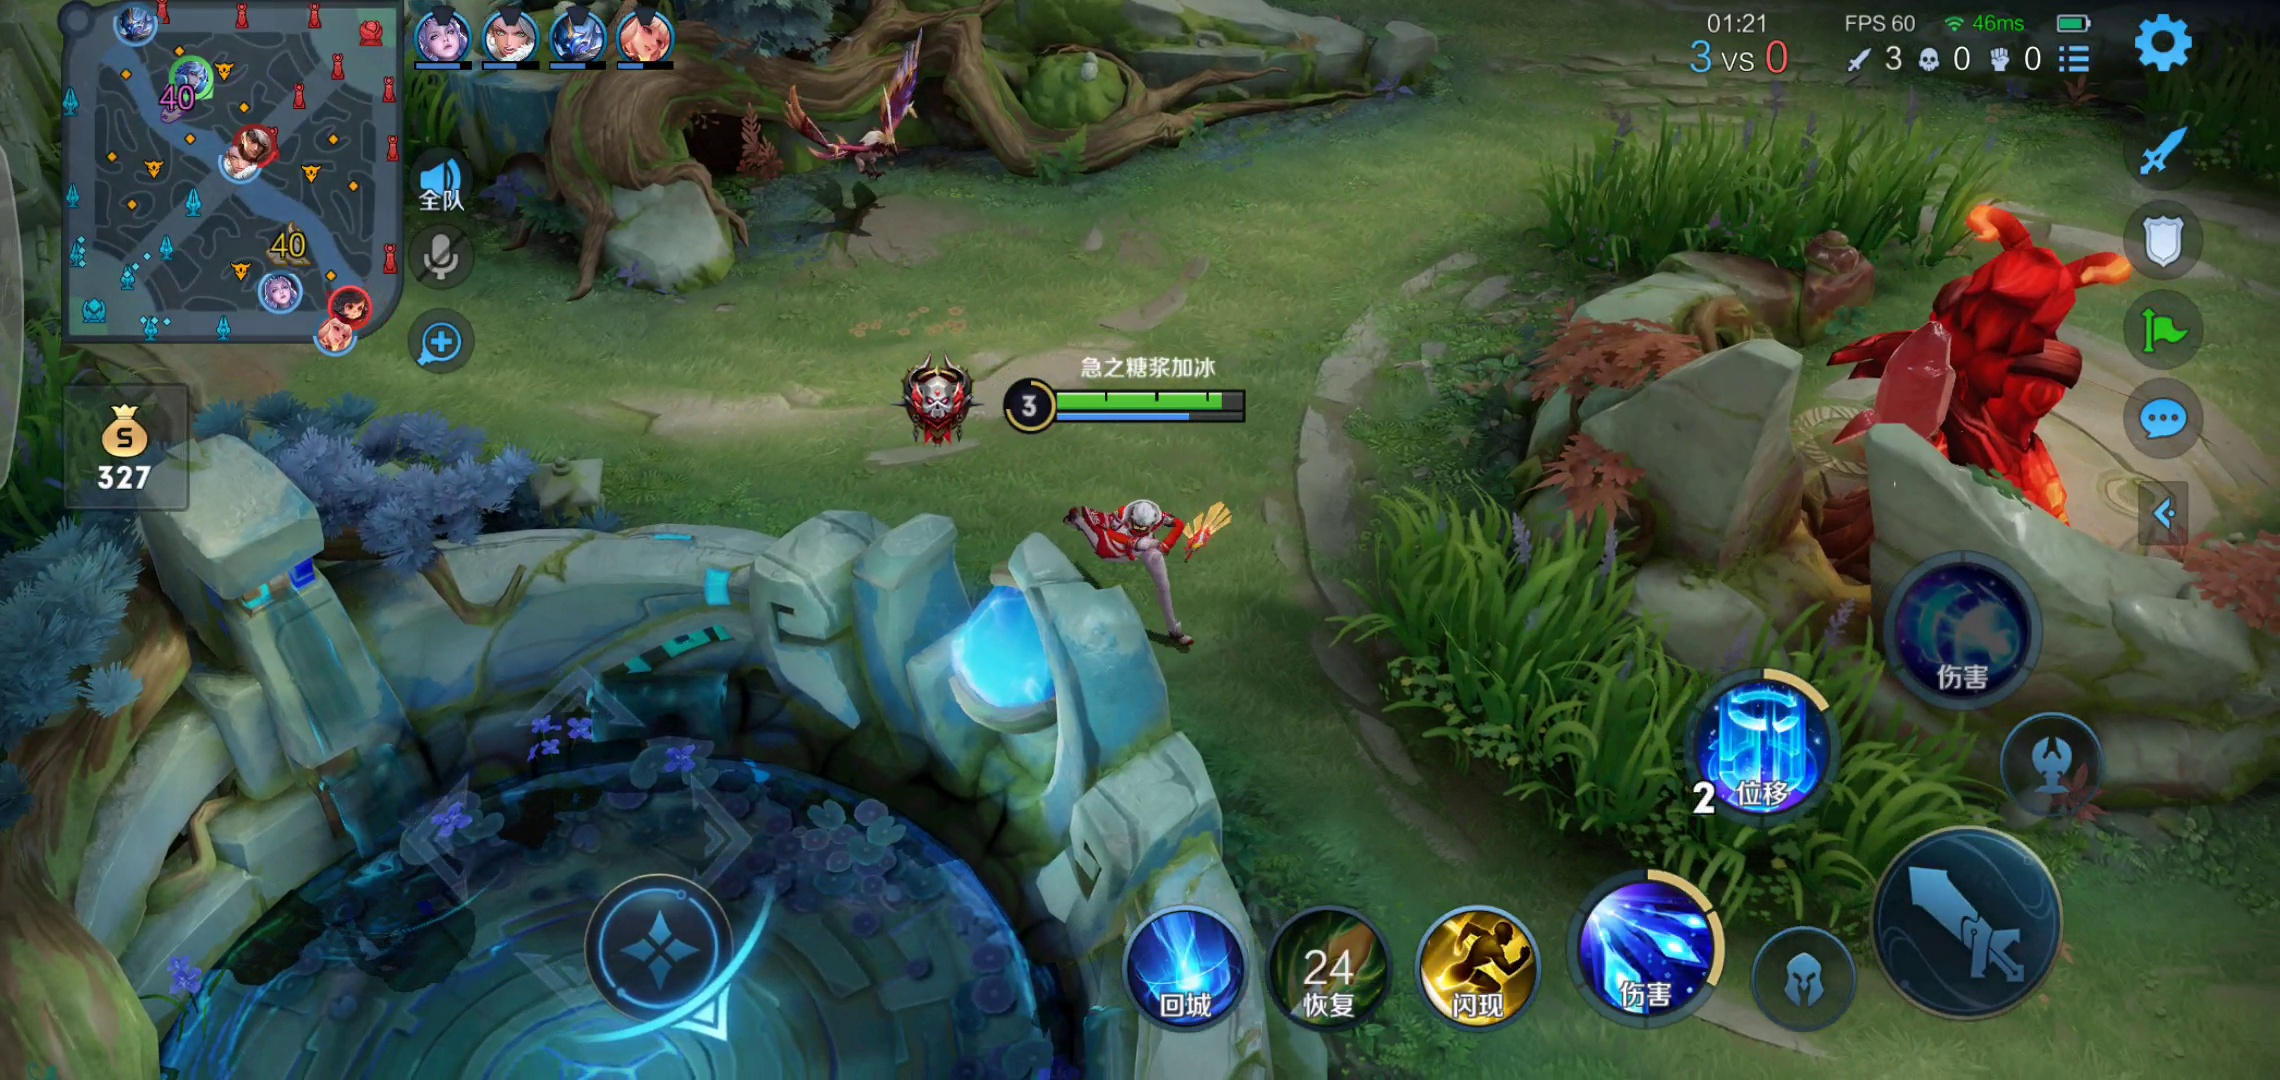buff: (1861, 233, 2081, 531)
grass: (1354, 512, 1980, 956), (1552, 109, 1979, 275), (3, 302, 90, 548)
hero: (1054, 481, 1224, 661)
wild_monster: (760, 31, 942, 190)
